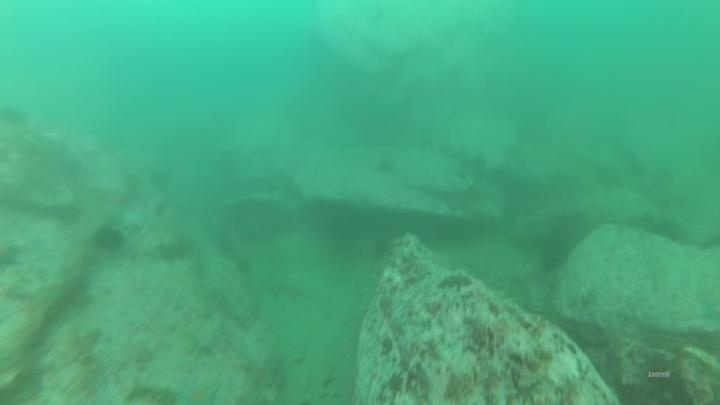echinus: (90, 222, 128, 256)
holothurian: (122, 380, 182, 404)
starfish: (172, 379, 221, 405)
